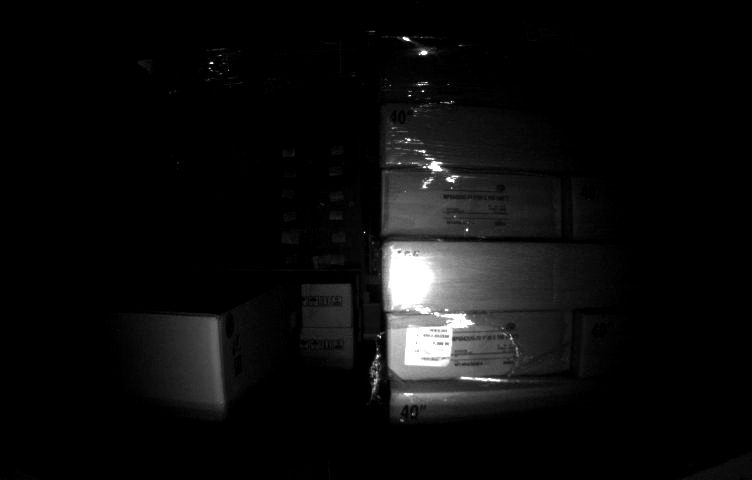True Barcode: (403, 321, 453, 368)
